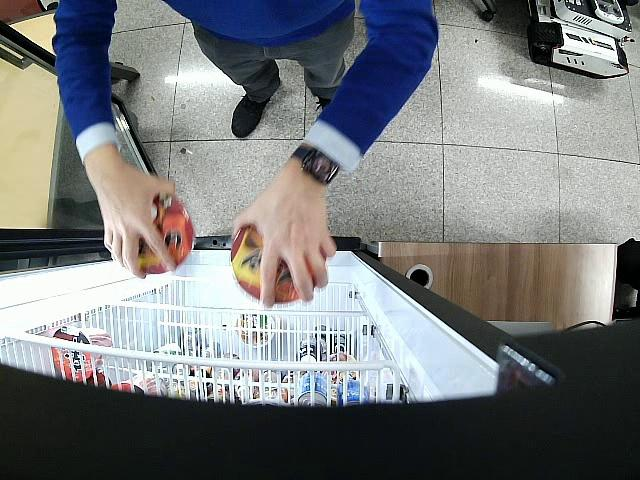00_hand: (233, 183, 335, 307), (102, 153, 176, 278)
05_nuguri_L: (229, 225, 326, 304), (138, 194, 195, 274)
